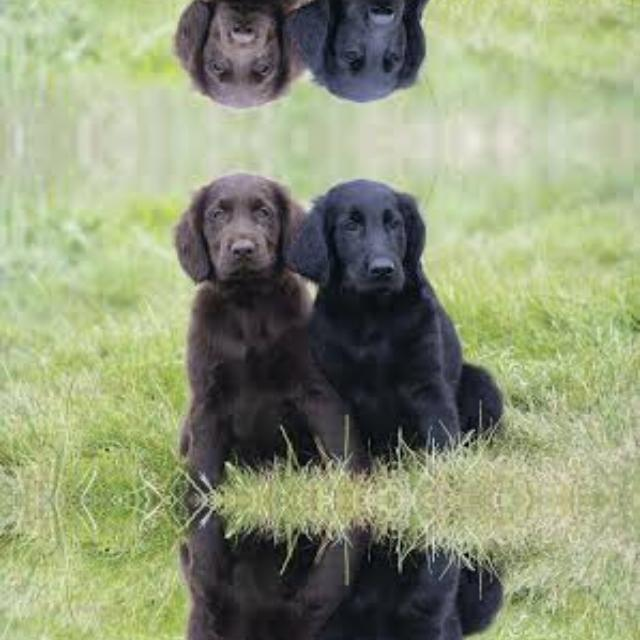dog: (312, 166, 508, 460), (168, 167, 310, 473), (312, 0, 507, 113), (312, 539, 507, 640), (168, 526, 310, 640), (168, 0, 310, 113)
